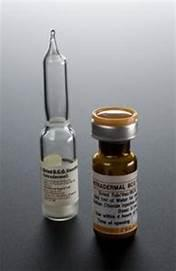Syringe: (33, 23, 82, 226), (88, 101, 145, 246)
